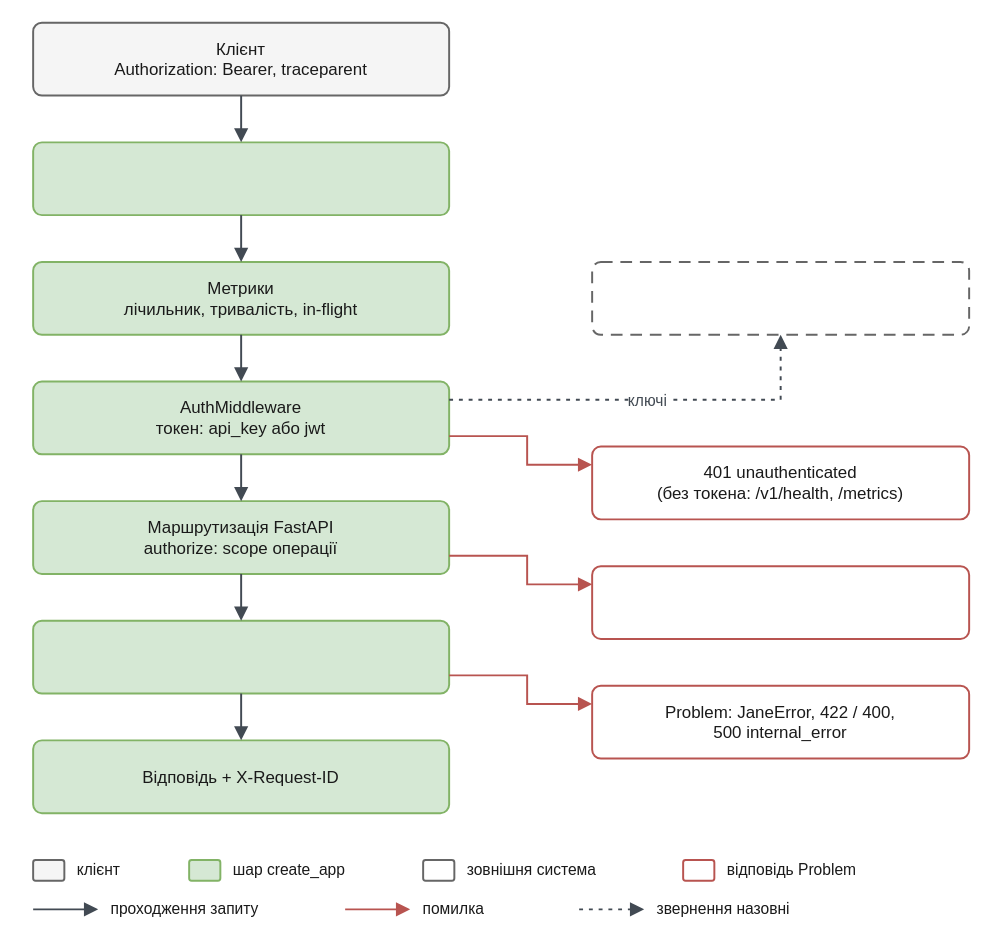
This 993x945 diagram has some shape labels left out. The centre of each missing label's shape, as x and y in pixels:
"403 forbidden немає scope або рядка в таблиці" goes at (780,602).
"JWKS постачальника (режим jwt, кеш ключів)" goes at (780,297).
"Контекст запиту trace_id, X-Request-ID, журнал доступу" goes at (241,178).
"Обробник сервісу" goes at (241,656).
